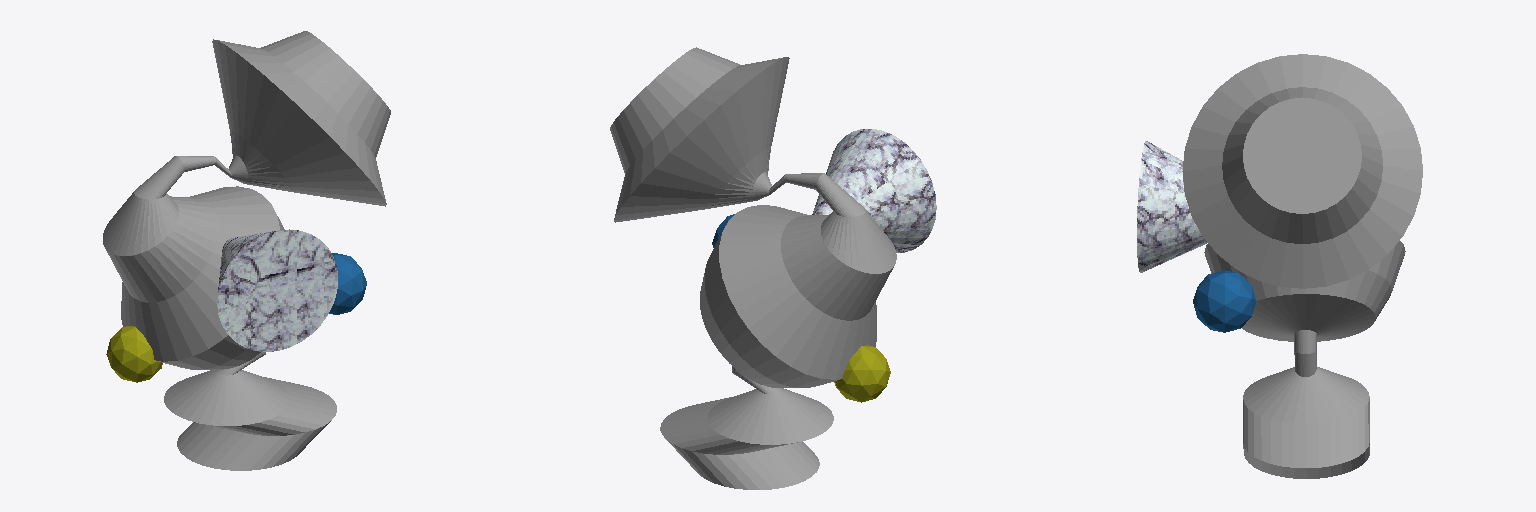
3 renders of one model, left to right at view 1: azimuth 30°, elevation 25°; view 2: azimuth 150°, elevation 25°; view 3: azimuth 270°, elevation 25°, orthographic.
Bounding box in the file's own units: 4.68 × 6.55 × 4.3.
Materials: 4 (1 with a texture image).